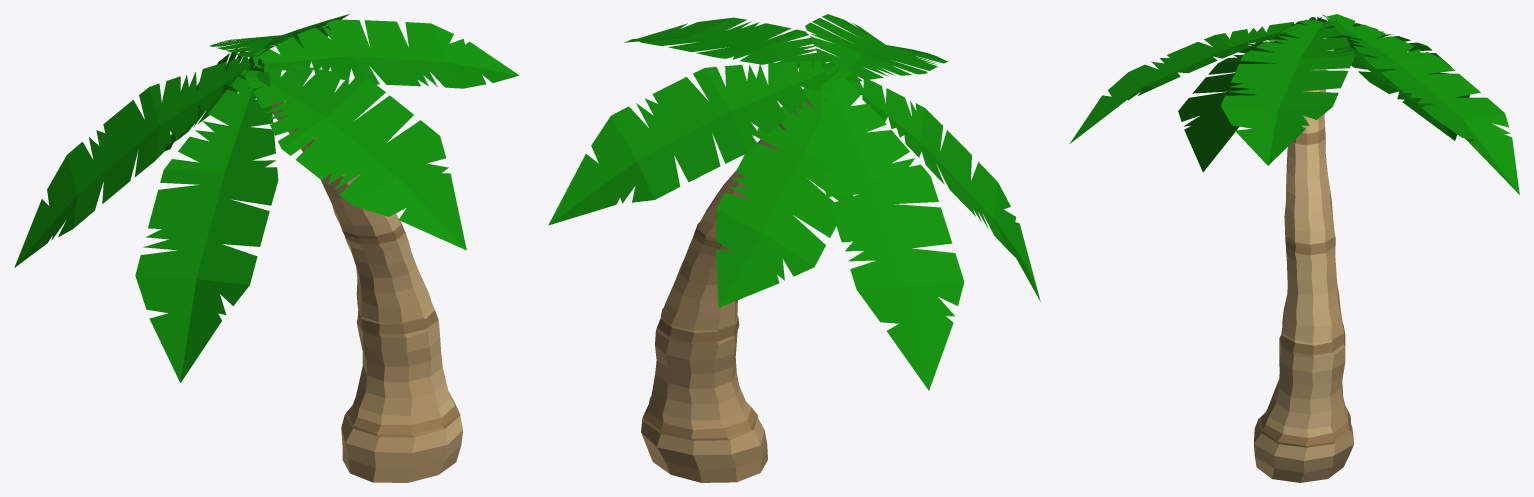
Rendered from PalmTreeLowSwept.glb.
3 views of the same model, side by side, from view 1: azimuth 30°, elevation 25°; view 2: azimuth 150°, elevation 25°; view 3: azimuth 270°, elevation 25° (orthographic). The views are drawn at different scales.
Visible parts, largest first — view 1: PalmShapeVariant_low_swept_bent; view 2: PalmShapeVariant_low_swept_bent; view 3: PalmShapeVariant_low_swept_bent.
Part boxes in pixels (<box>): PalmShapeVariant_low_swept_bent: <box>14,14,519,482</box>; PalmShapeVariant_low_swept_bent: <box>548,14,1040,482</box>; PalmShapeVariant_low_swept_bent: <box>1070,14,1519,482</box>.
Size of the model in its own units: 4.21 by 4.31 by 4.48.
